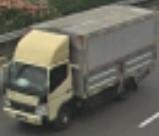truck: (1, 29, 80, 130)
